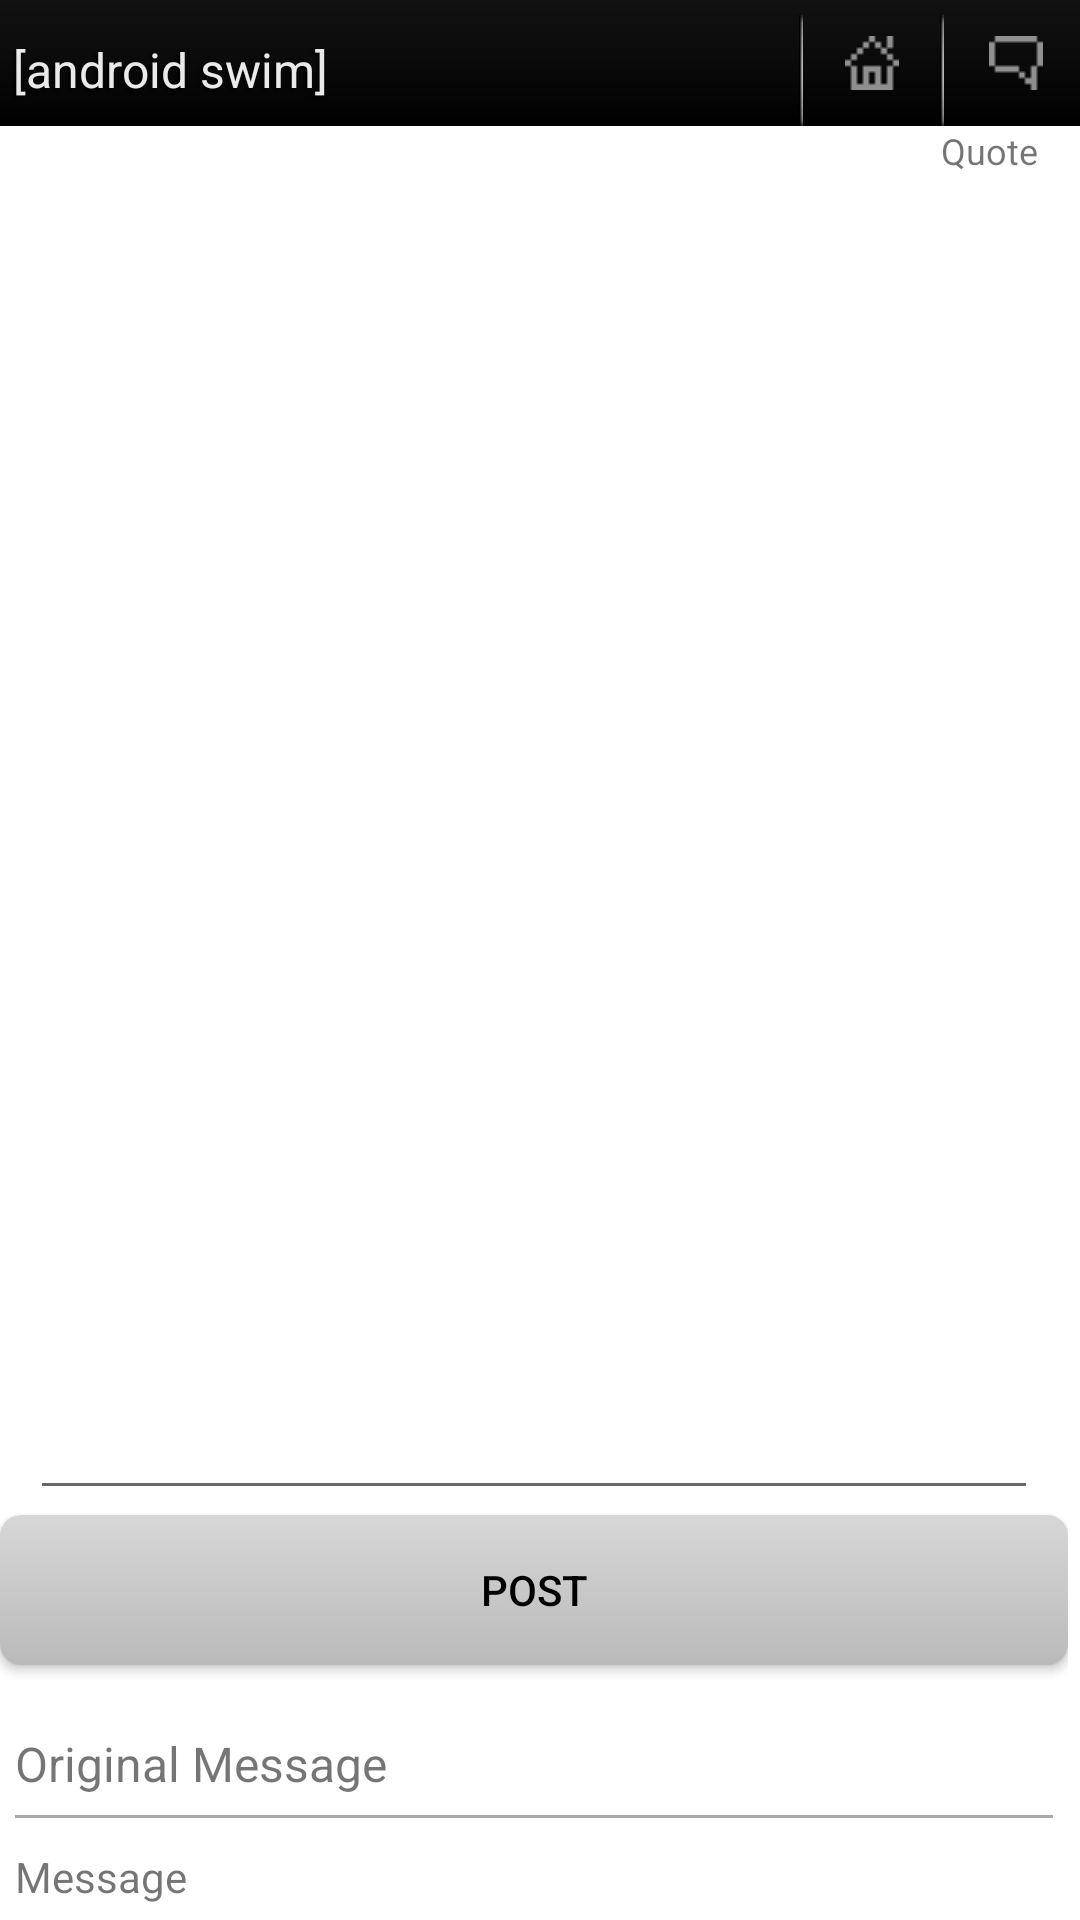

Screen size 1080×1920. Icon name, then its box in pixels as (left=x1, top=y1, right=x2, bottom=y2):
homepixel: (left=845, top=36, right=899, bottom=90)
